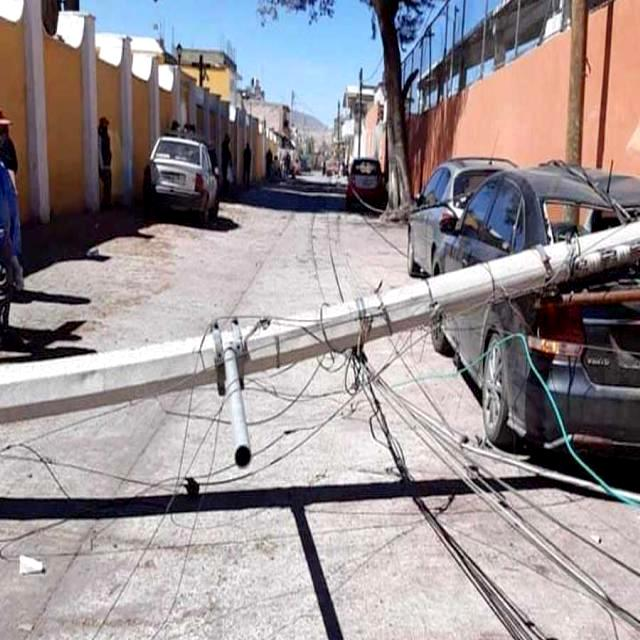Broken Pole: (2, 215, 640, 468)
